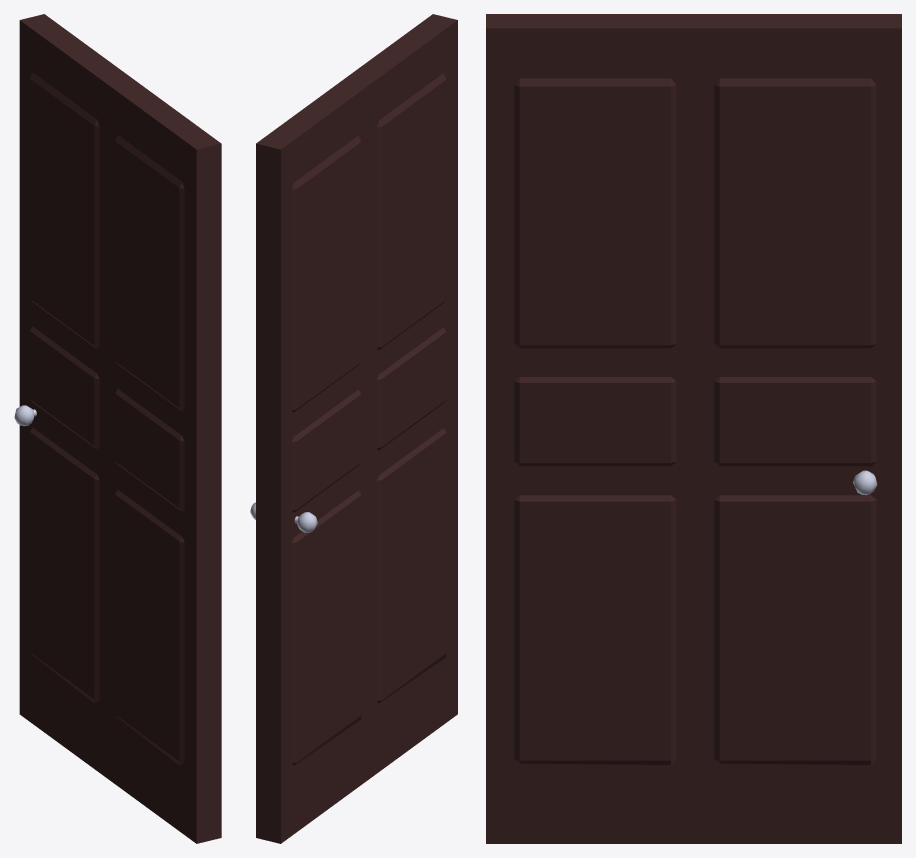
Rendered from doorFinal.fbx.
3 renders of one model, left to right at view 1: azimuth 30°, elevation 25°; view 2: azimuth 150°, elevation 25°; view 3: azimuth 270°, elevation 25°, orthographic. The views are drawn at different scales.
Parts seen in each view (by area): view 1: DoorDetail2, Cube; view 2: DoorDetail2, Cube, KnobHandle1; view 3: DoorDetail2, Cube.
Part boxes in pixels (<box>): DoorDetail2: <box>30,72,184,765</box>; Cube: <box>19,14,221,843</box>; DoorDetail2: <box>291,73,446,765</box>; Cube: <box>256,14,457,843</box>; KnobHandle1: <box>250,502,317,532</box>; DoorDetail2: <box>514,78,876,764</box>; Cube: <box>486,14,901,843</box>.
Size of the model in its own units: 63.27 by 649 by 300.
